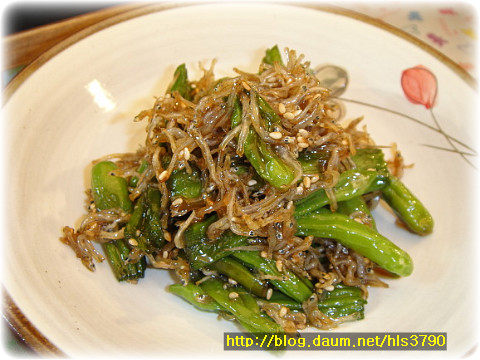myeolchibokk-eum: (57, 40, 435, 329)
